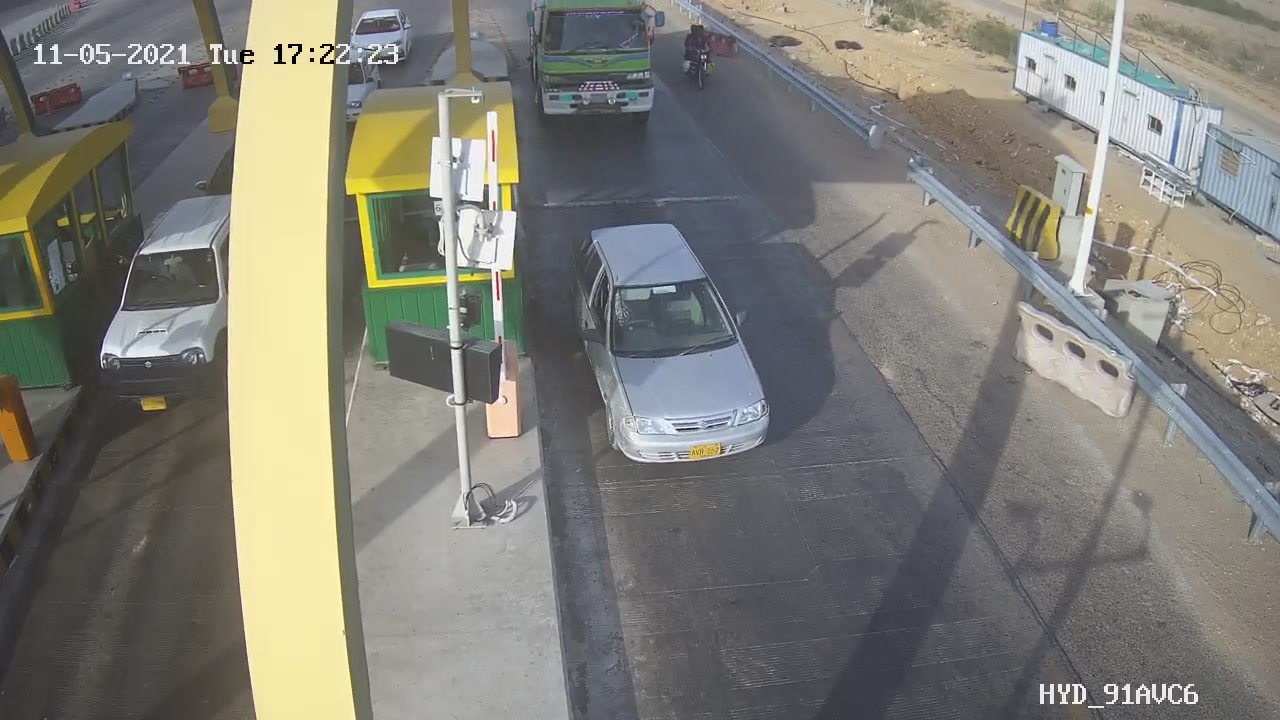F1: (547, 207, 803, 479)
